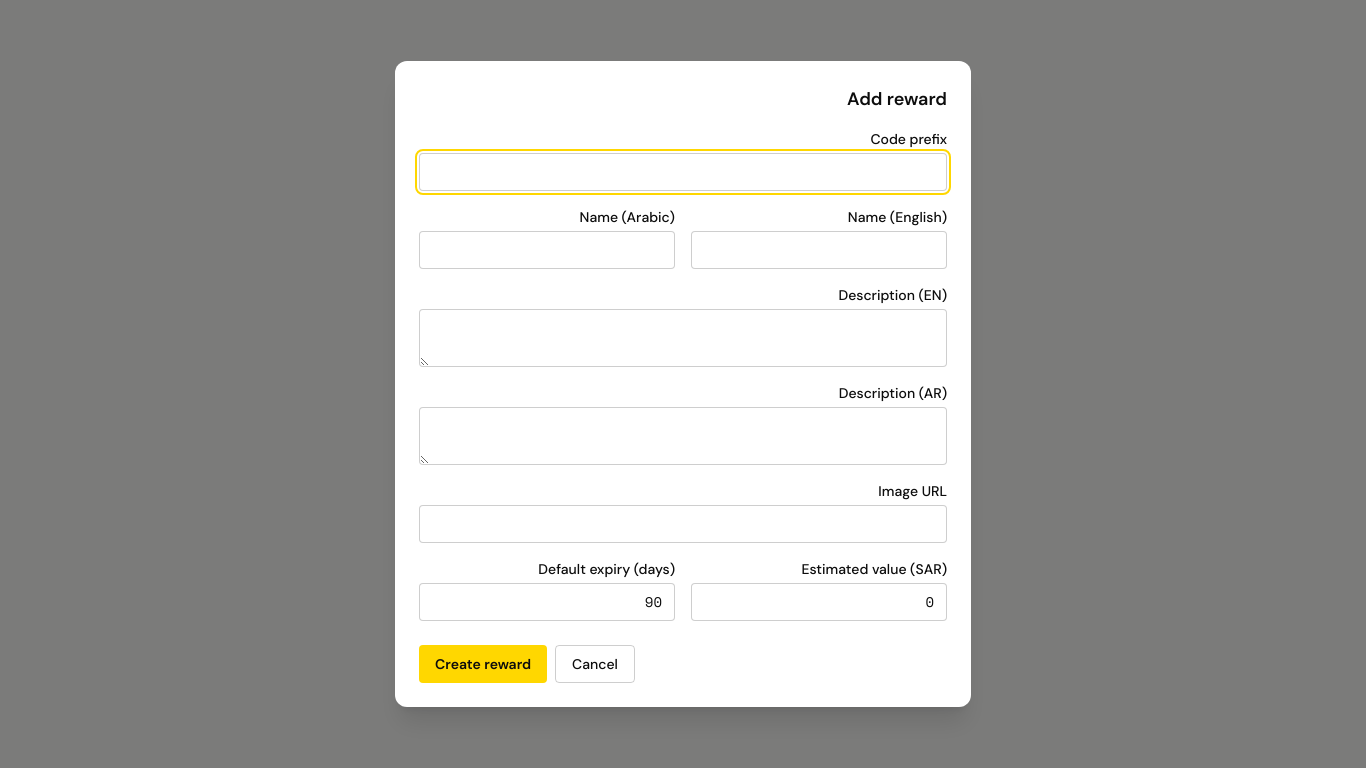
Test: AdminCatalogFormDialog › shows a validation error when name_en is empty on submit
Fill every required field except name_en.
Type "BOX" into the field labelled "Code prefix".
click(683, 172); type("BOX")  # box [419, 153, 947, 191]
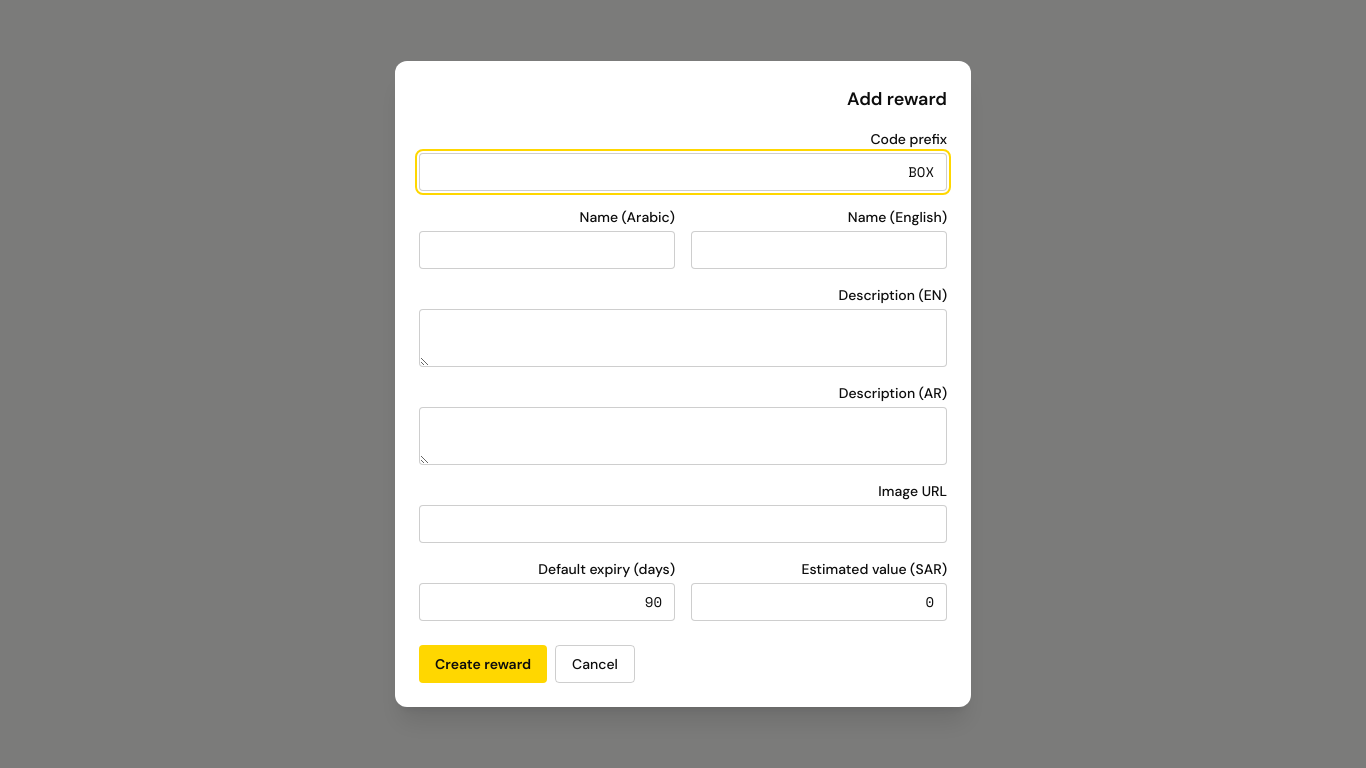
Type "صندوق" into the field labelled "Name (Arabic)".
click(547, 250); type("صندوق")  # box [419, 231, 675, 269]
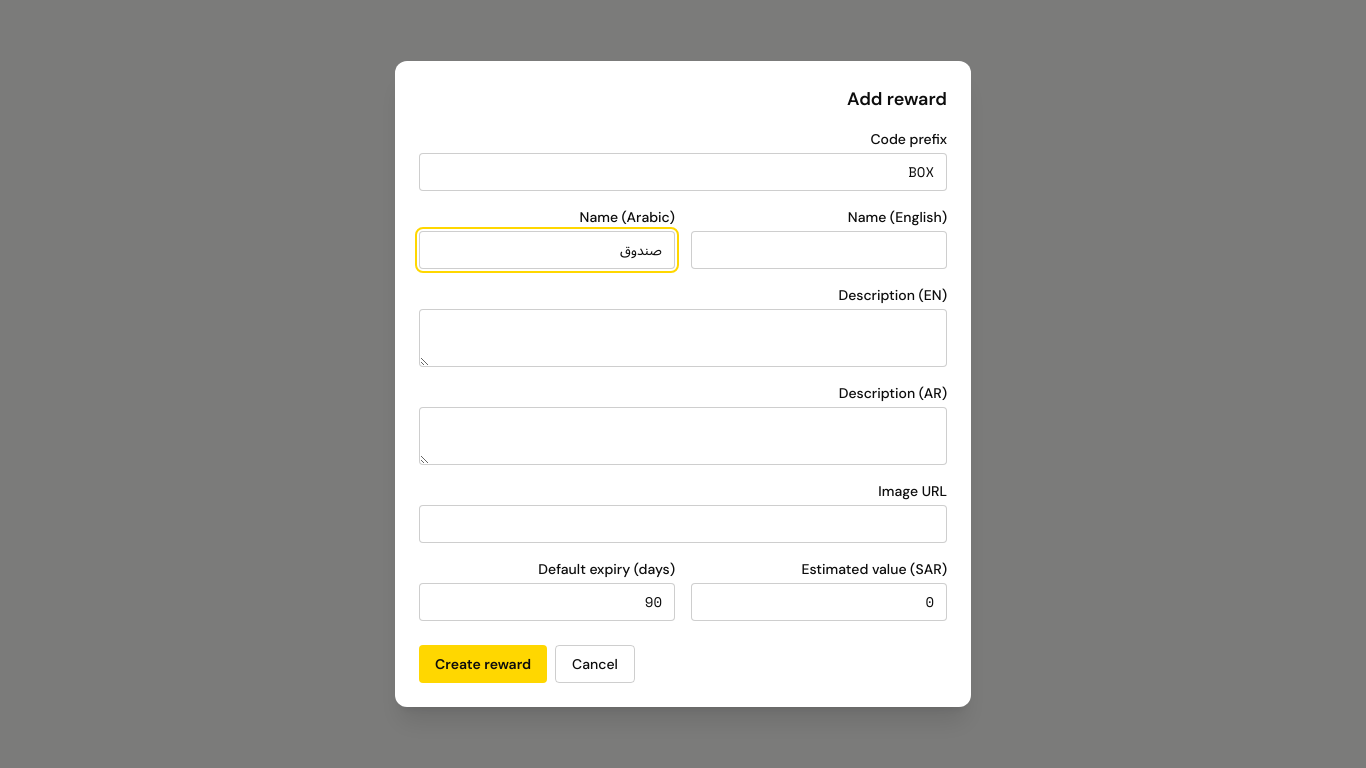
Click the button "Create reward".
click(483, 664)  # box [419, 645, 547, 683]
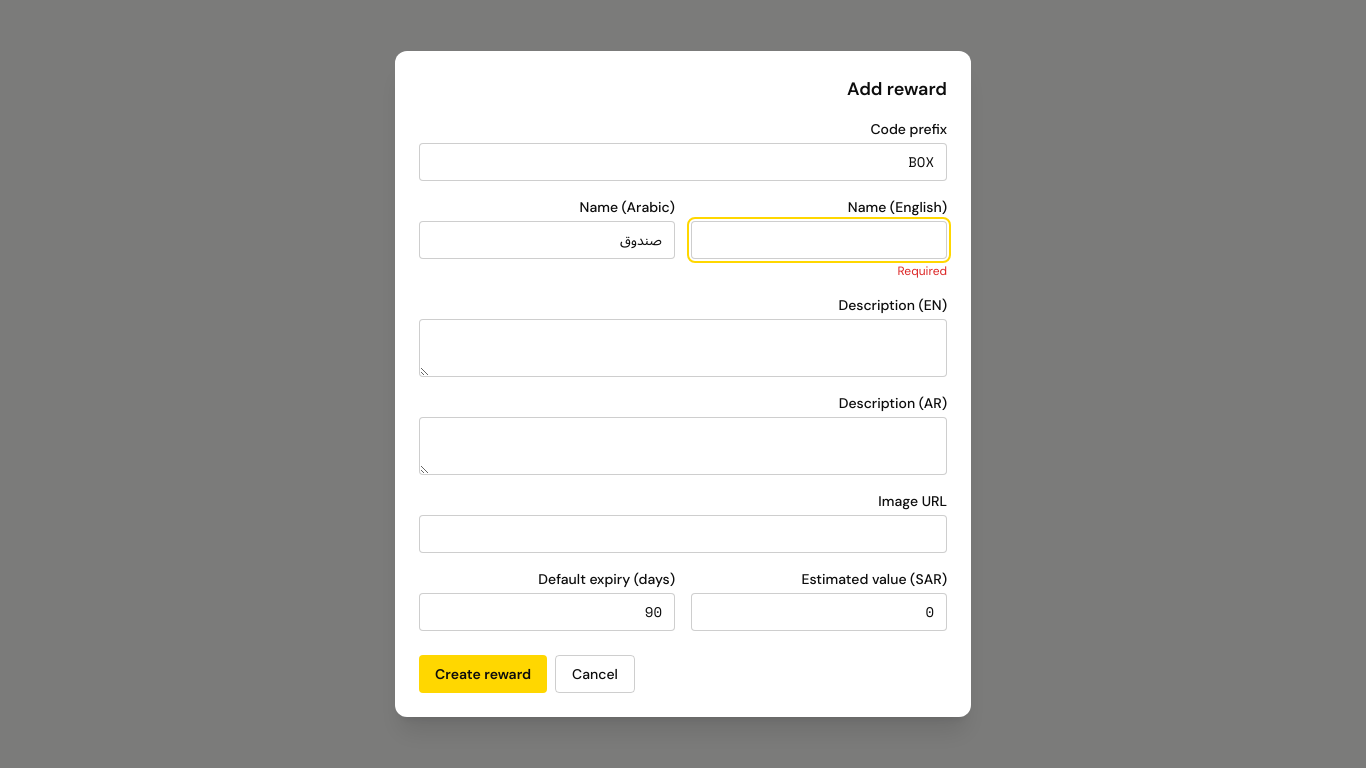
Now the text "Required" is shown, box [898, 263, 947, 279]
